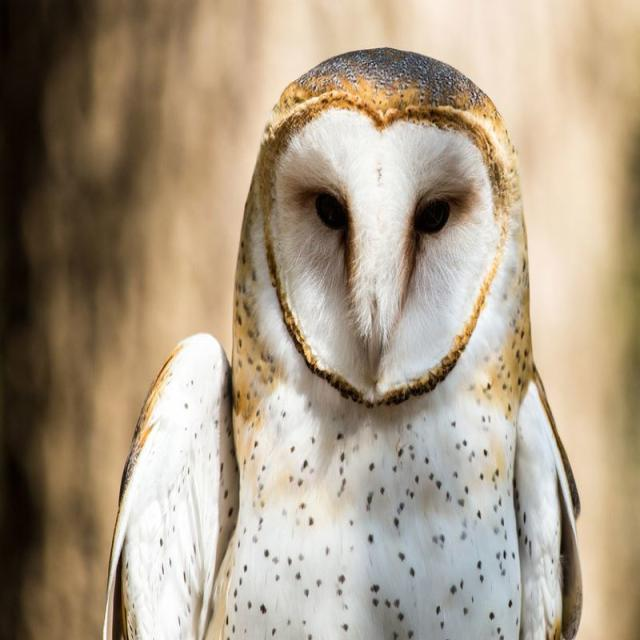Owl: (97, 37, 596, 640)
